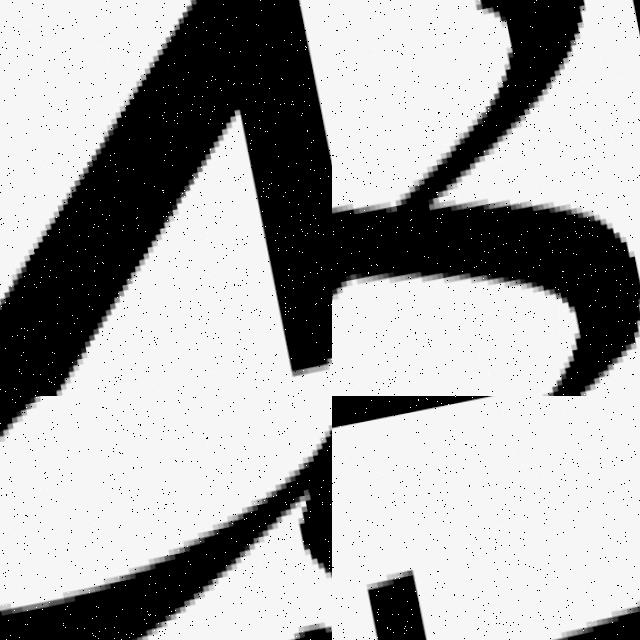I: (359, 475, 640, 640)
V: (0, 396, 332, 640)
X: (332, 0, 640, 396)
Z: (0, 0, 332, 396)
